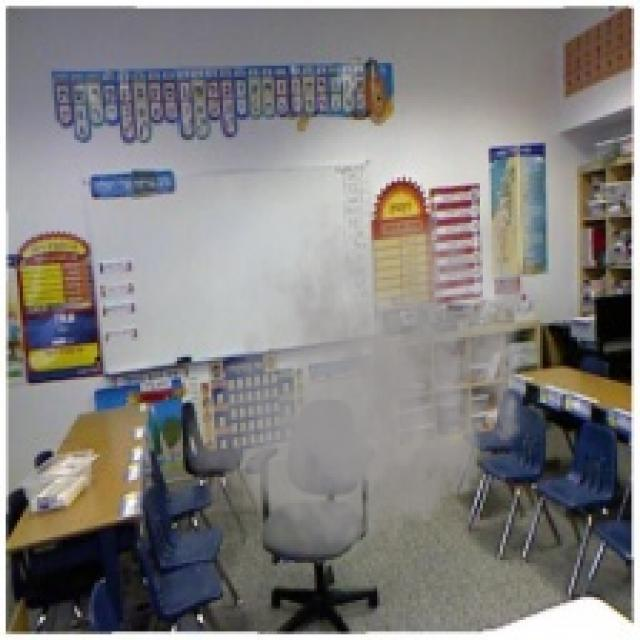Smoke: (174, 179, 549, 572)
